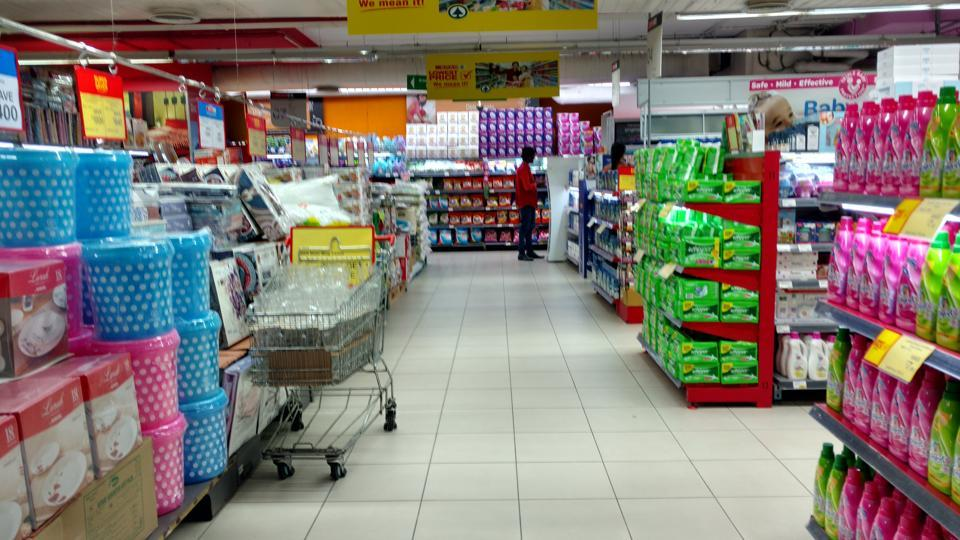Not_Face: (522, 144, 536, 166)
